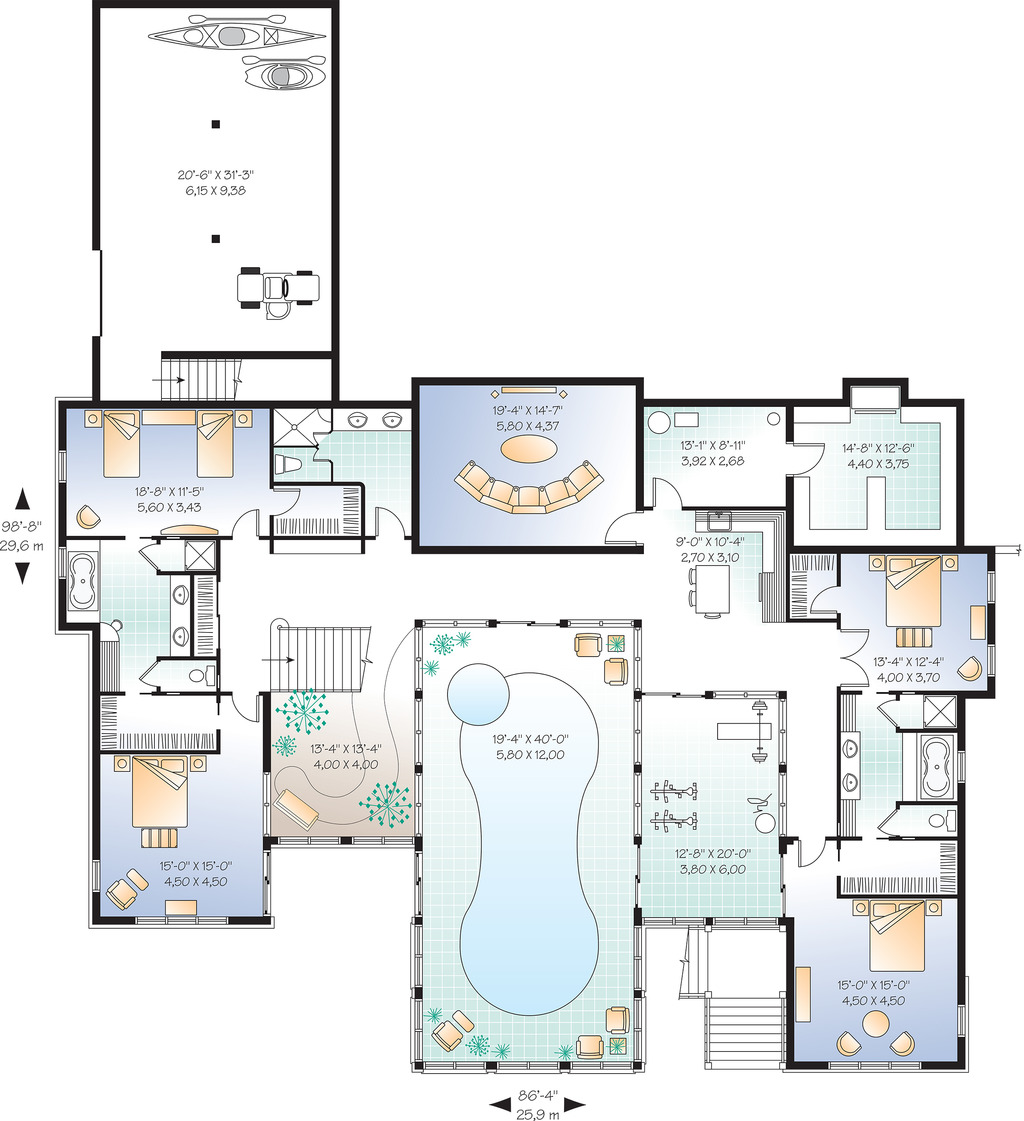bed: (127, 757, 193, 833), (884, 553, 947, 631), (870, 902, 928, 973), (103, 403, 147, 484), (195, 409, 236, 478)
door: (835, 626, 870, 694), (783, 438, 828, 481), (605, 509, 646, 550), (368, 506, 411, 540), (650, 472, 683, 510), (806, 584, 843, 616), (270, 484, 304, 516), (797, 835, 828, 870), (229, 507, 265, 535)
kitchen_bar: (689, 560, 737, 622)
large_sink: (266, 448, 308, 481), (921, 807, 960, 838), (185, 661, 215, 691)
large_sofa: (449, 459, 604, 519)
small_sink: (834, 731, 862, 803), (168, 575, 190, 660)
small_sofa: (98, 877, 140, 908), (599, 656, 633, 691), (570, 631, 605, 661), (570, 1034, 610, 1060), (433, 1022, 465, 1050), (604, 1002, 631, 1034)
stairs: (673, 926, 790, 1076), (262, 619, 378, 695), (152, 352, 249, 401)
tub: (916, 731, 959, 797), (66, 547, 102, 610)
windows: (423, 614, 490, 632), (561, 615, 639, 629)
